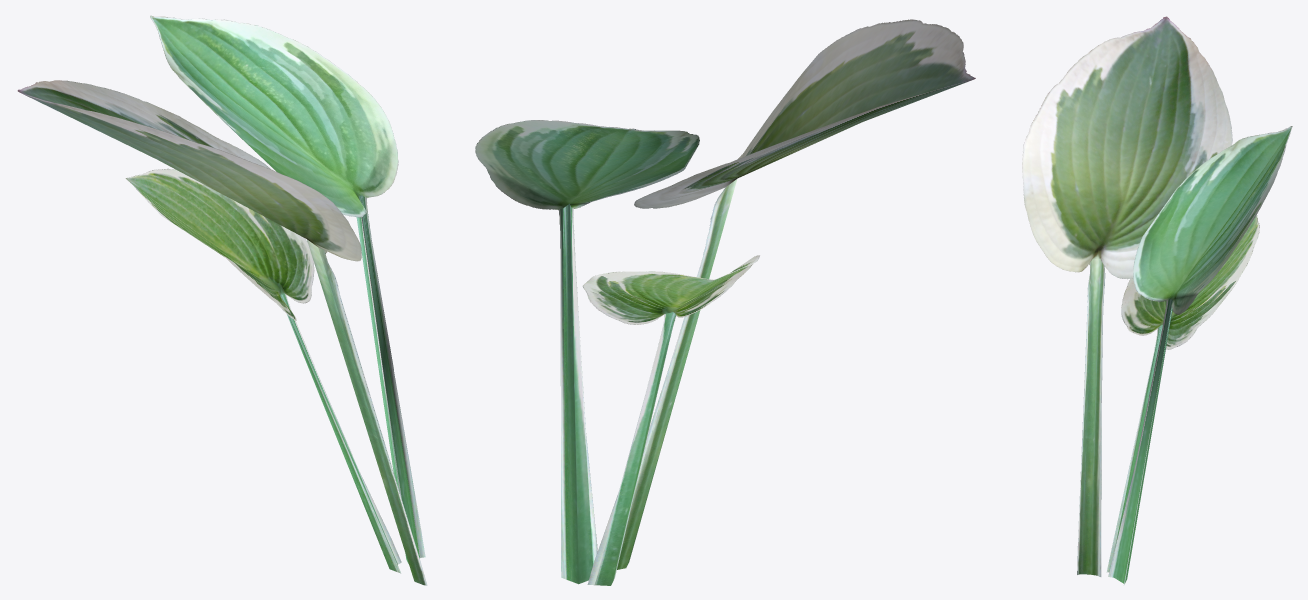
The model's file is plant_small_wg_00_fillerD_wild.fbx.
3 views of the same model, side by side, from view 1: azimuth 30°, elevation 25°; view 2: azimuth 150°, elevation 25°; view 3: azimuth 270°, elevation 25° (orthographic). The views are drawn at different scales.
Visible parts, largest first — view 1: plant_small_wg_00_fillerD_wild; view 2: plant_small_wg_00_fillerD_wild; view 3: plant_small_wg_00_fillerD_wild.
Boxes of the visible parts, x1,y1,x2,y2 form: plant_small_wg_00_fillerD_wild: (17,15,427,585); plant_small_wg_00_fillerD_wild: (475,19,975,585); plant_small_wg_00_fillerD_wild: (1022,16,1292,584).
Bounding box in the file's own units: 38.91 × 47.96 × 29.34.
